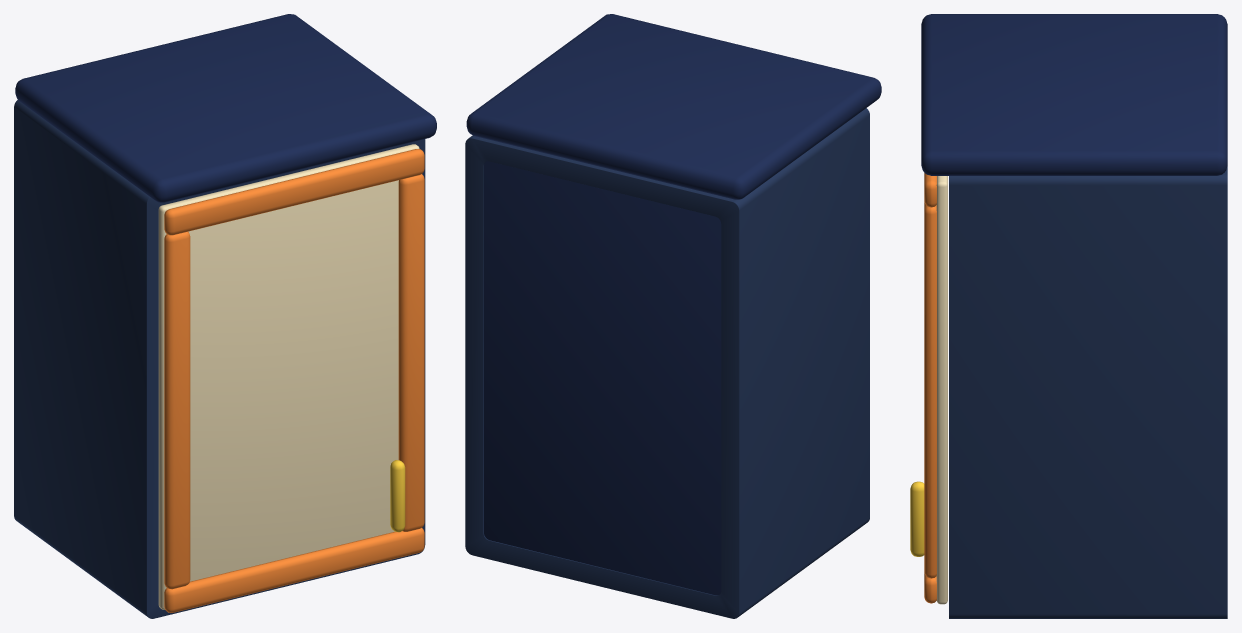
Rendered from armario_parede_1porta_grafite_noite.glb.
The picture shows the model from 3 angles, left to right: view 1: azimuth 30°, elevation 25°; view 2: azimuth 150°, elevation 25°; view 3: azimuth 270°, elevation 25°; orthographic projection. The views are drawn at different scales.
Parts seen in each view (by area): view 1: armario_parede_1porta_grafite_noite, porta_1; view 2: armario_parede_1porta_grafite_noite; view 3: armario_parede_1porta_grafite_noite, porta_1.
Boxes of the visible parts, x1=… form: armario_parede_1porta_grafite_noite: x1=14, y1=14, x2=436, y2=618; porta_1: x1=158, y1=144, x2=424, y2=612; armario_parede_1porta_grafite_noite: x1=465, y1=14, x2=881, y2=618; armario_parede_1porta_grafite_noite: x1=921, y1=14, x2=1227, y2=618; porta_1: x1=910, y1=173, x2=947, y2=604.
Bounding box in the file's own units: 0.398 × 0.6 × 0.3687.
Materials: 1 (1 with a texture image).
